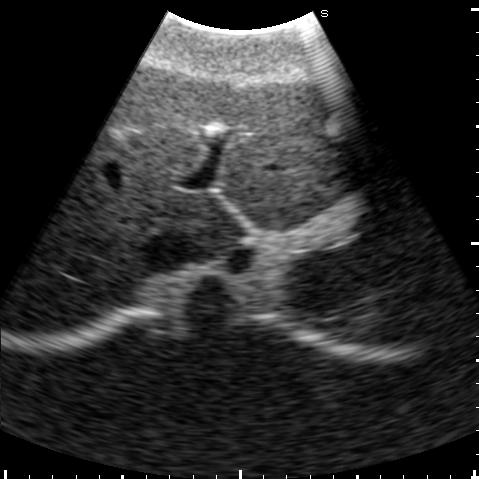IVC: (141, 232, 204, 275)
S1: (182, 195, 248, 255)
S2: (220, 150, 391, 232)
S3: (221, 69, 382, 194)
Tumor: (324, 113, 353, 136)
